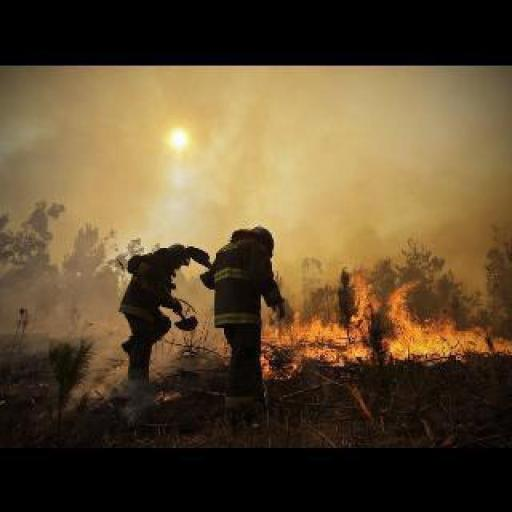smoke: (258, 270, 510, 382)
